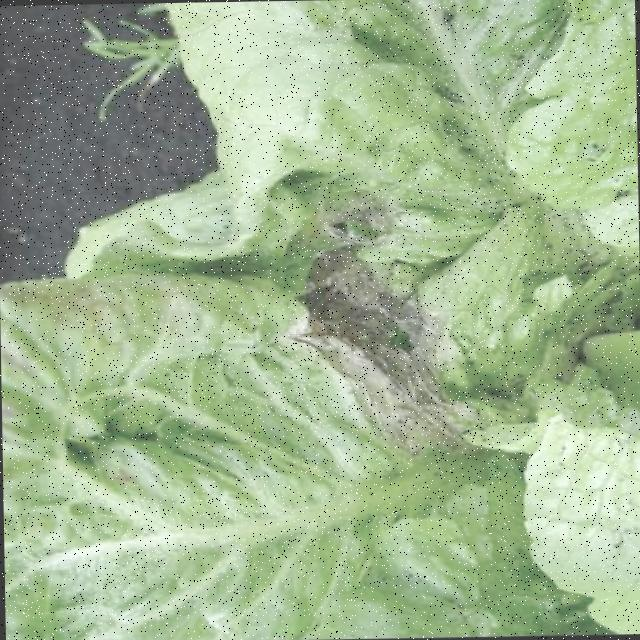Bacterial: (268, 179, 544, 458)
